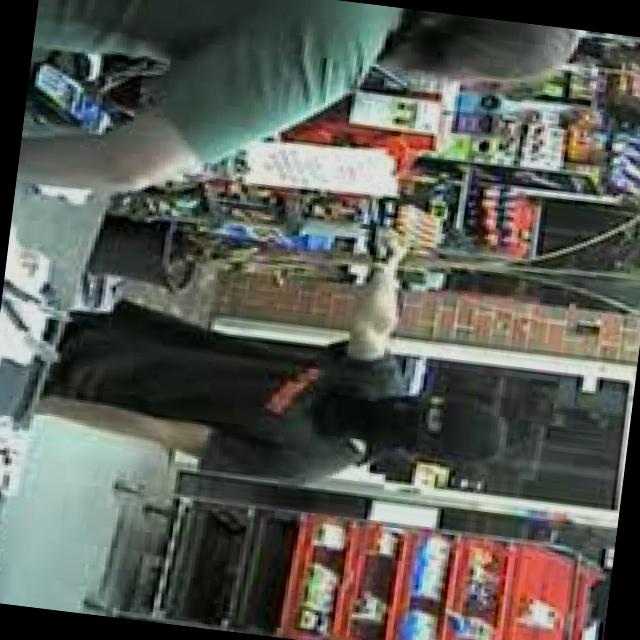handgun: (350, 213, 416, 269)
